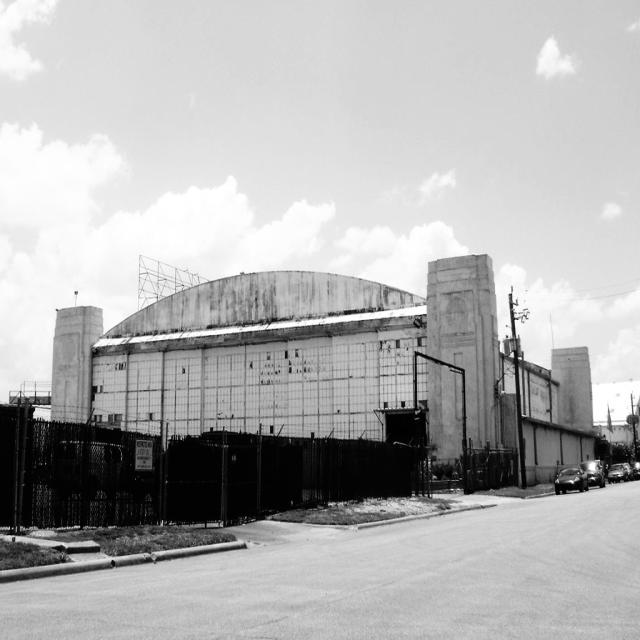car: (555, 465, 587, 492)
